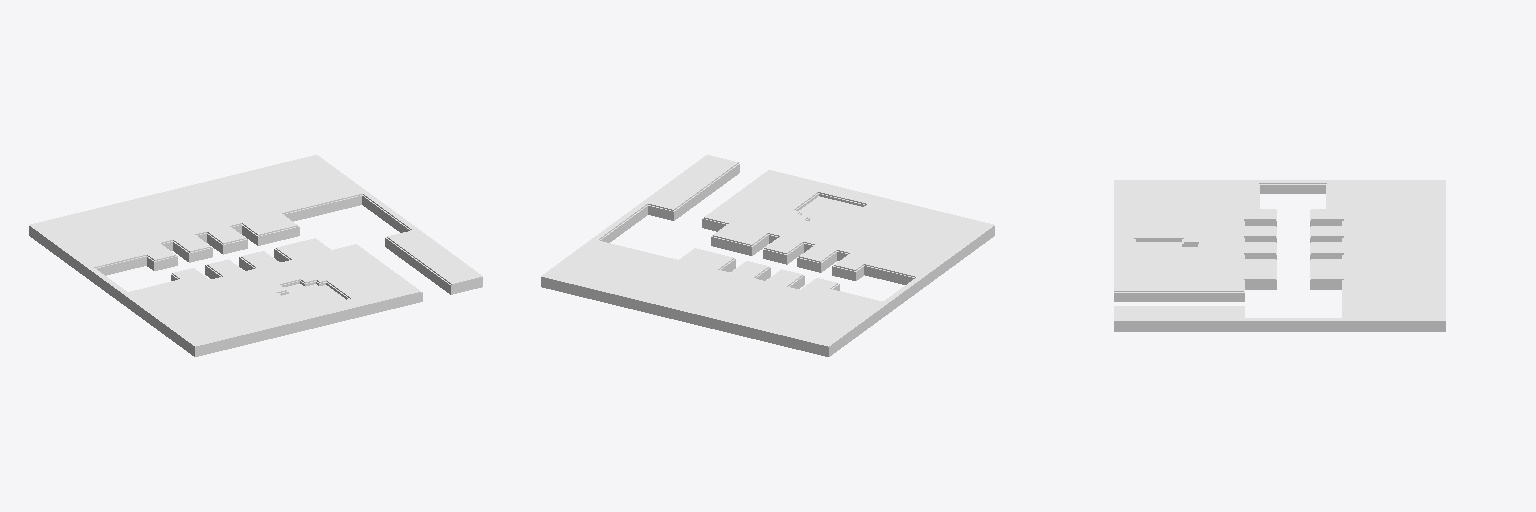
File: stage4-2-0-Stage4-2.obj
3 renders of one model, left to right at view 1: azimuth 30°, elevation 25°; view 2: azimuth 150°, elevation 25°; view 3: azimuth 270°, elevation 25°, orthographic.
Visible parts, largest first — view 1: Stage4-2; view 2: Stage4-2; view 3: Stage4-2.
Part boxes in pixels (x1,y1,x2,y2): Stage4-2: (29,155,482,356); Stage4-2: (541,155,994,356); Stage4-2: (1114,180,1445,331).
Size of the model in its own units: 25.6 by 0.9 by 25.6.